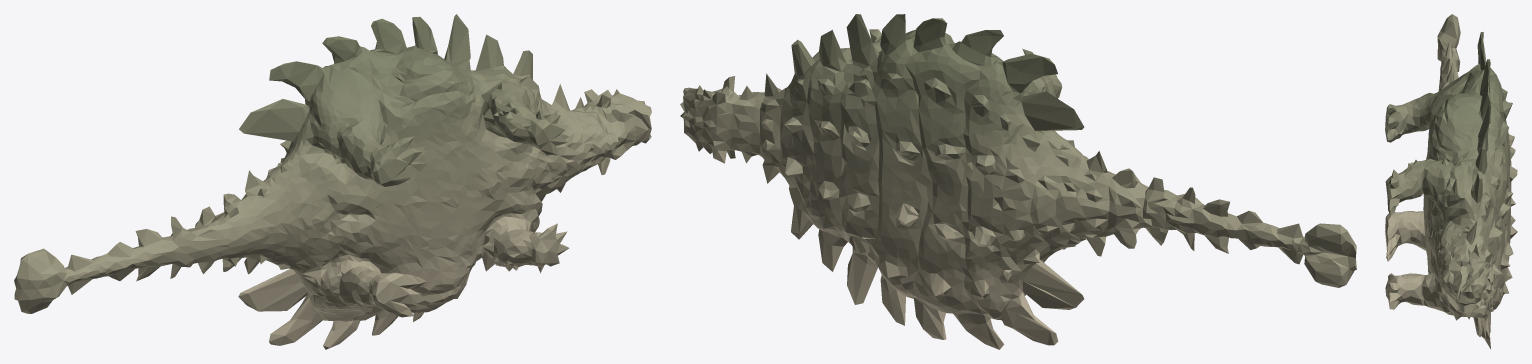
The model's file is pinacosaurus.glb.
3 views of the same model, side by side, from view 1: azimuth 30°, elevation 25°; view 2: azimuth 150°, elevation 25°; view 3: azimuth 270°, elevation 25° (orthographic). The views are drawn at different scales.
Visible parts, largest first — view 1: Pinacosaurus; view 2: Pinacosaurus; view 3: Pinacosaurus.
Boxes of the visible parts, box(x1,y1,x2,y2) form: Pinacosaurus: box(14, 14, 651, 349); Pinacosaurus: box(680, 14, 1356, 349); Pinacosaurus: box(1385, 14, 1517, 349).
Size of the model in its own units: 130 by 60.23 by 27.02.
